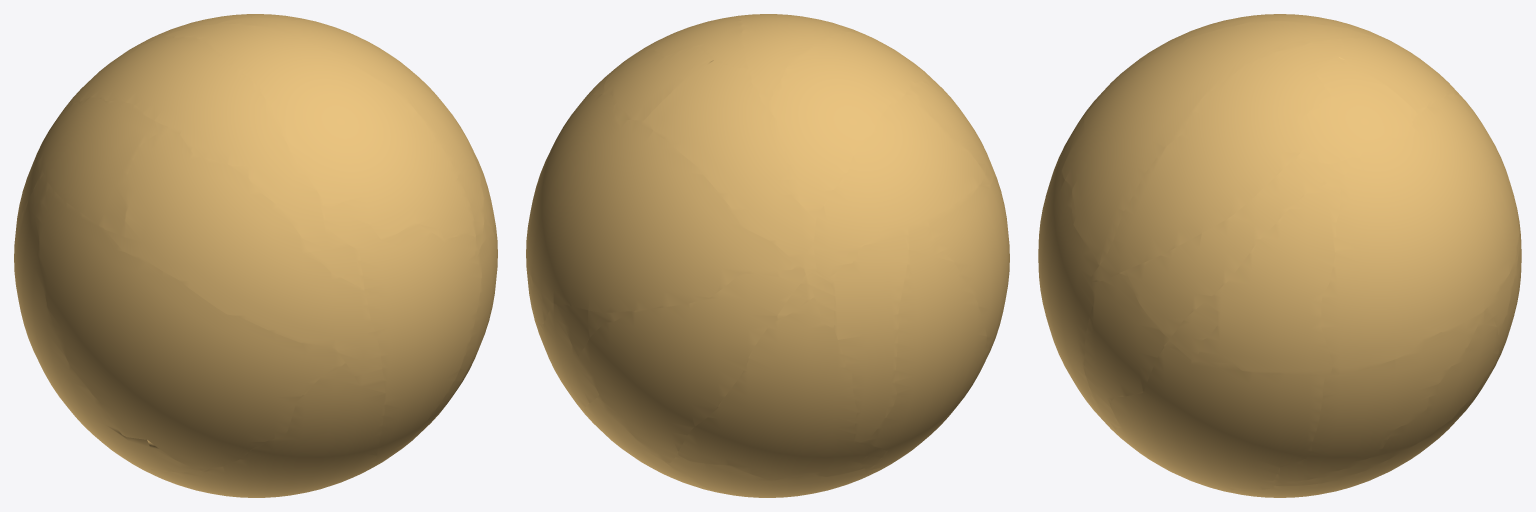
Rendered from Planet.fbx.
3 views of the same model, side by side, from view 1: azimuth 30°, elevation 25°; view 2: azimuth 150°, elevation 25°; view 3: azimuth 270°, elevation 25° (orthographic).
Visible parts, largest first — view 1: polySurface38, polySurface43, polySurface25, polySurface31, polySurface26, polySurface17, polySurface44, polySurface53, polySurface9, polySurface33, polySurface54, polySurface49 (+1 smaller); view 2: polySurface35, polySurface46, polySurface51, polySurface49, polySurface44, polySurface31, polySurface53, polySurface54, polySurface38, polySurface25, polySurface50, polySurface52 (+7 smaller); view 3: polySurface35, polySurface9, polySurface24, polySurface25, polySurface36, polySurface29, polySurface21, polySurface26, polySurface33, polySurface50, polySurface47, polySurface49 (+5 smaller).
Part boxes in pixels (bbox=[...]): polySurface38: bbox=[39, 185, 344, 468]; polySurface43: bbox=[125, 125, 383, 384]; polySurface25: bbox=[163, 24, 475, 240]; polySurface31: bbox=[63, 36, 365, 294]; polySurface26: bbox=[324, 201, 481, 471]; polySurface17: bbox=[122, 362, 385, 497]; polySurface44: bbox=[34, 96, 162, 251]; polySurface53: bbox=[14, 174, 219, 472]; polySurface9: bbox=[215, 17, 483, 258]; polySurface33: bbox=[395, 216, 497, 451]; polySurface54: bbox=[14, 156, 43, 286]; polySurface49: bbox=[61, 14, 255, 112]; polySurface35: bbox=[526, 93, 799, 312]; polySurface46: bbox=[578, 264, 805, 464]; polySurface51: bbox=[677, 296, 866, 480]; polySurface49: bbox=[643, 60, 834, 328]; polySurface44: bbox=[813, 90, 991, 279]; polySurface31: bbox=[767, 32, 926, 218]; polySurface53: bbox=[868, 219, 988, 469]; polySurface54: bbox=[827, 226, 908, 469]; polySurface38: bbox=[927, 174, 1009, 365]; polySurface25: bbox=[735, 14, 873, 106]; polySurface50: bbox=[604, 46, 712, 120]; polySurface52: bbox=[668, 454, 866, 497]; polySurface35: bbox=[1321, 93, 1519, 375]; polySurface9: bbox=[1090, 38, 1343, 281]; polySurface24: bbox=[1110, 340, 1324, 490]; polySurface25: bbox=[1061, 20, 1374, 266]; polySurface36: bbox=[1196, 182, 1340, 375]; polySurface29: bbox=[1273, 312, 1483, 484]; polySurface21: bbox=[1126, 155, 1359, 338]; polySurface26: bbox=[1038, 117, 1105, 423]; polySurface33: bbox=[1084, 270, 1169, 433]; polySurface50: bbox=[1296, 57, 1415, 164]; polySurface47: bbox=[1273, 307, 1499, 486]; polySurface49: bbox=[1339, 37, 1462, 111].
Bounding box in the file's own units: 80 × 80 × 79.84.
